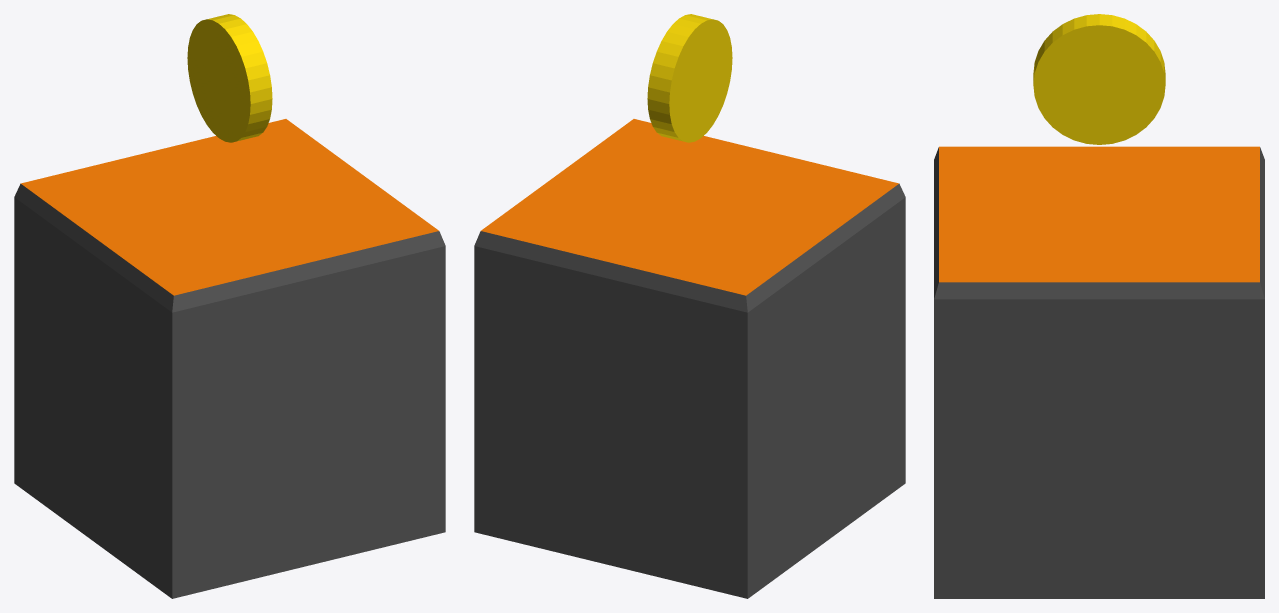
File: coin.glb
3 renders of one model, left to right at view 1: azimuth 30°, elevation 25°; view 2: azimuth 150°, elevation 25°; view 3: azimuth 270°, elevation 25°, orthographic. The views are drawn at different scales.
Parts seen in each view (by area): view 1: OrangeTile; view 2: OrangeTile; view 3: OrangeTile.
Boxes of the visible parts, <box> form: OrangeTile: <box>14,14,445,598</box>; OrangeTile: <box>474,14,905,598</box>; OrangeTile: <box>934,14,1264,598</box>.
Size of the model in its own units: 2 by 3.4 by 2.
